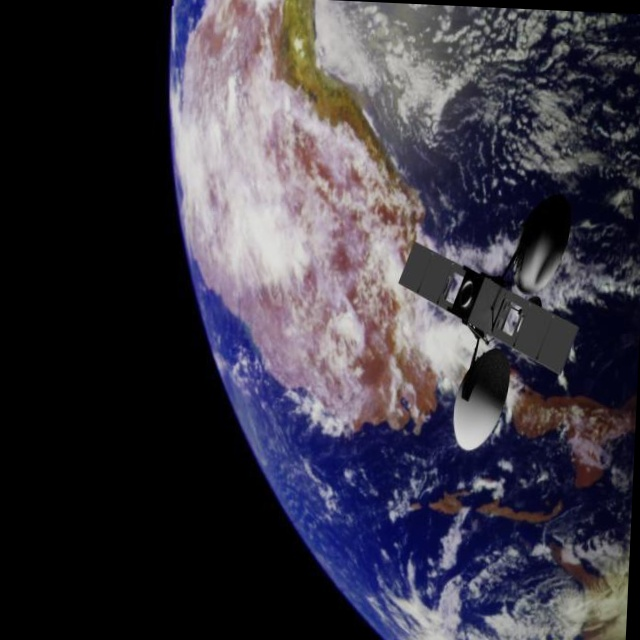satellite: (374, 176, 606, 457)
